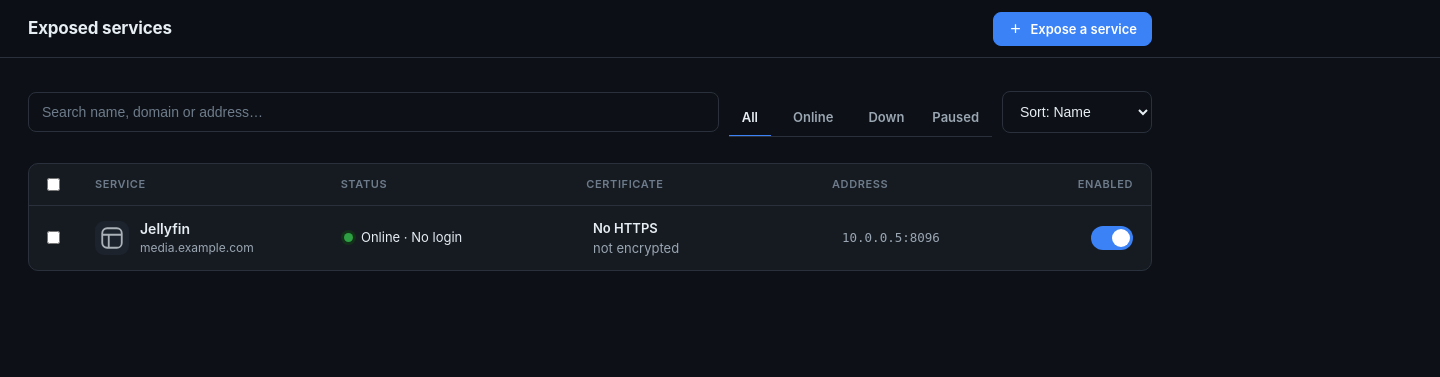
Test: Services › shows a no-match state-note when the filter excludes every host
Type "zzz" into the search field named "Search services" at (373, 112), box [28,92,719,132]
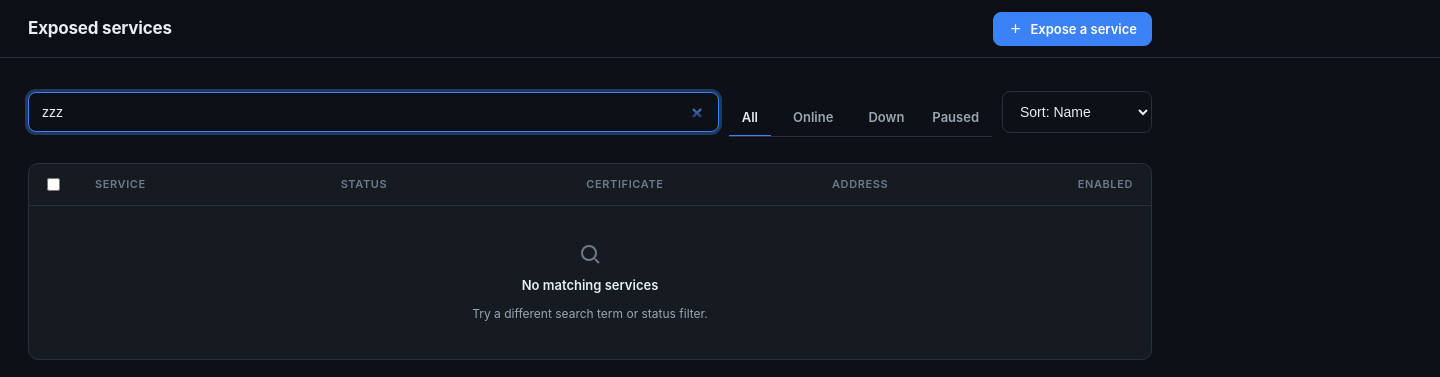
Expected: the text "No matching services" is shown, [522,276,658,295]
